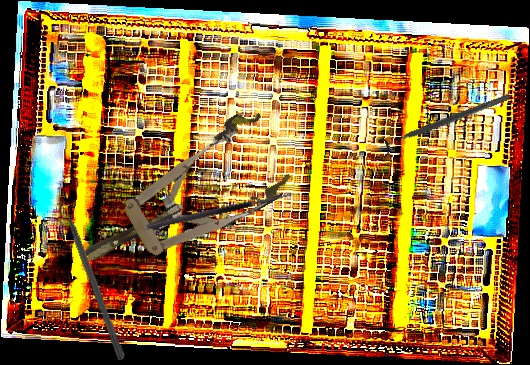Fixation Ring: (377, 86, 514, 159)
Hook Surgical: (144, 183, 295, 231)
Pusher: (57, 193, 128, 361)
Speculum: (63, 104, 301, 296)
